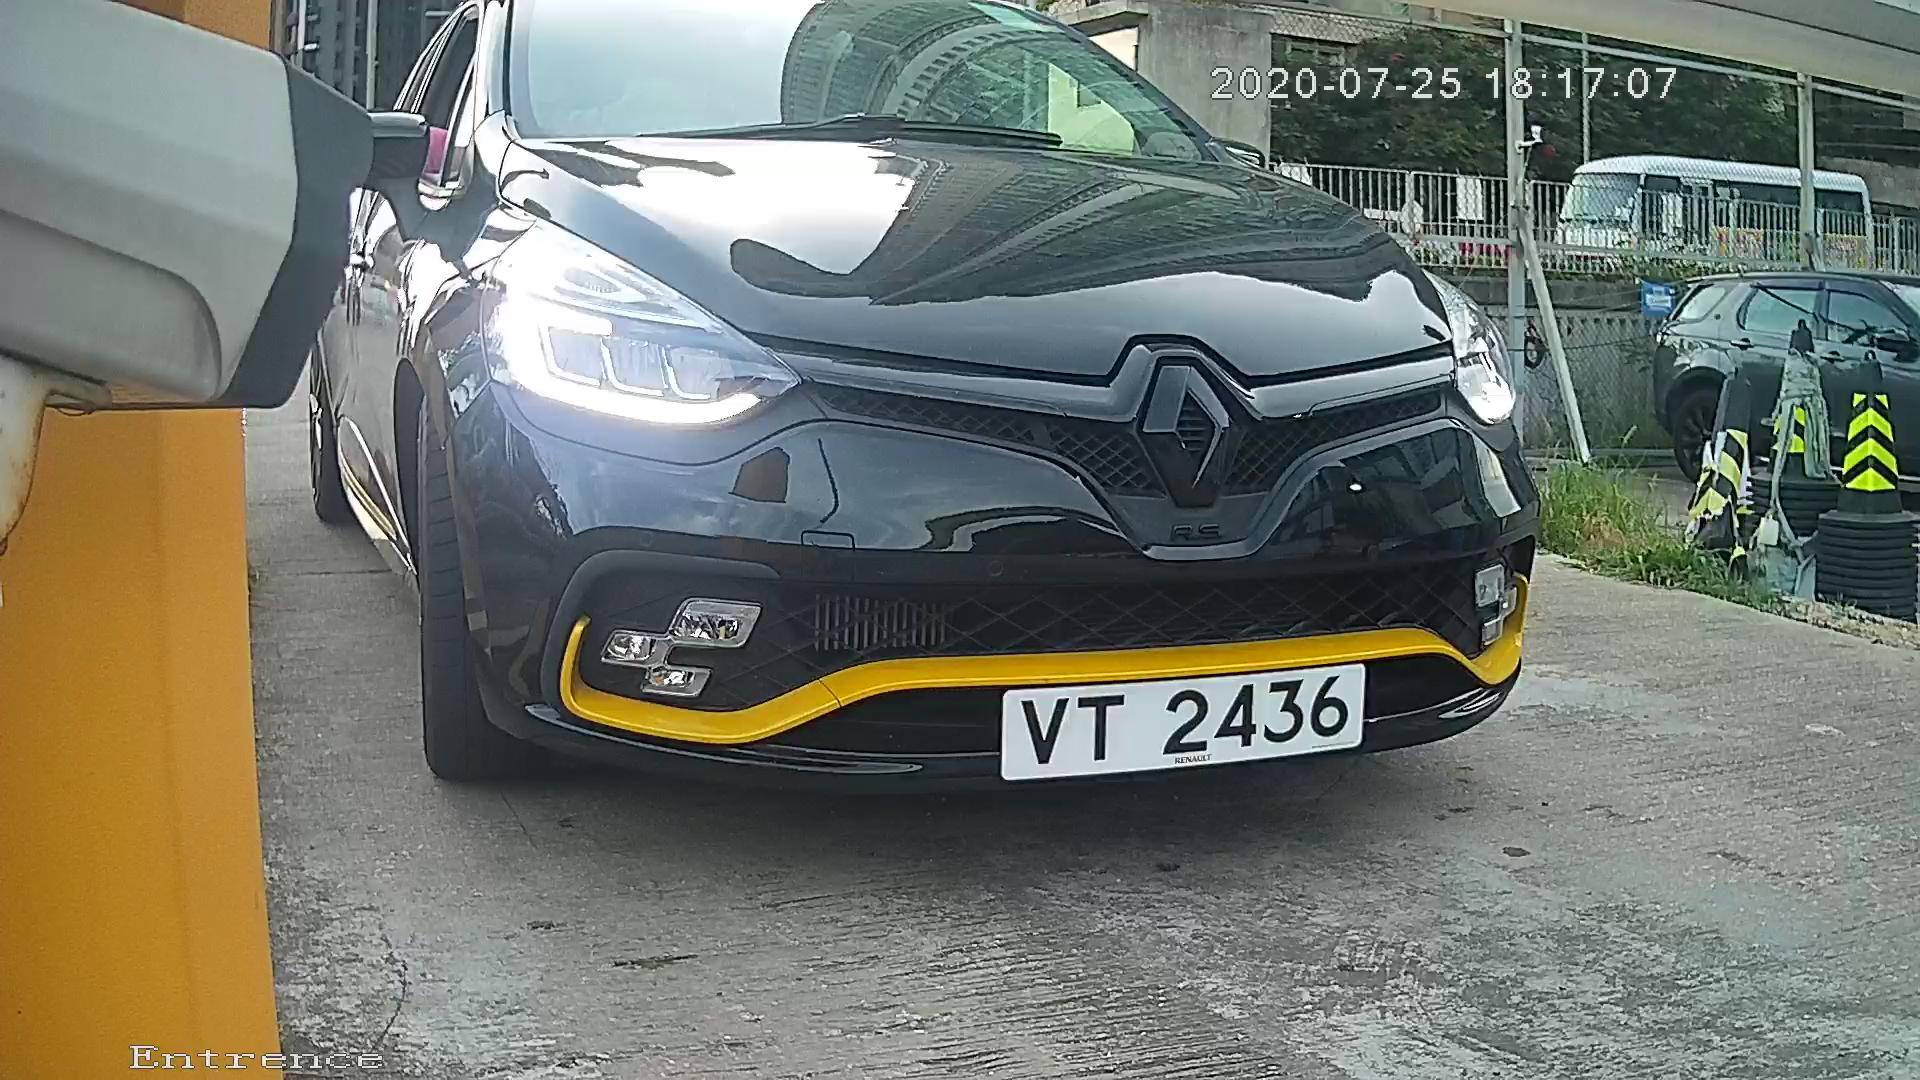License Plate: (978, 642, 1380, 791)
